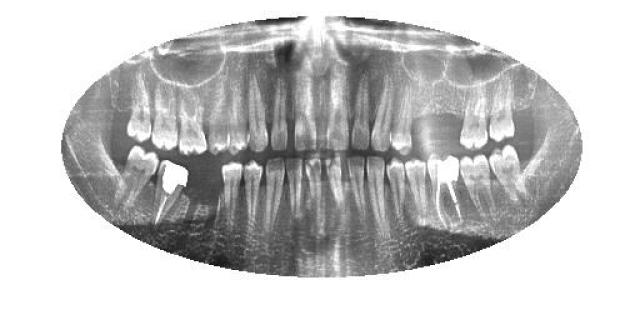Implant: (426, 154, 464, 226), (150, 160, 189, 228)
